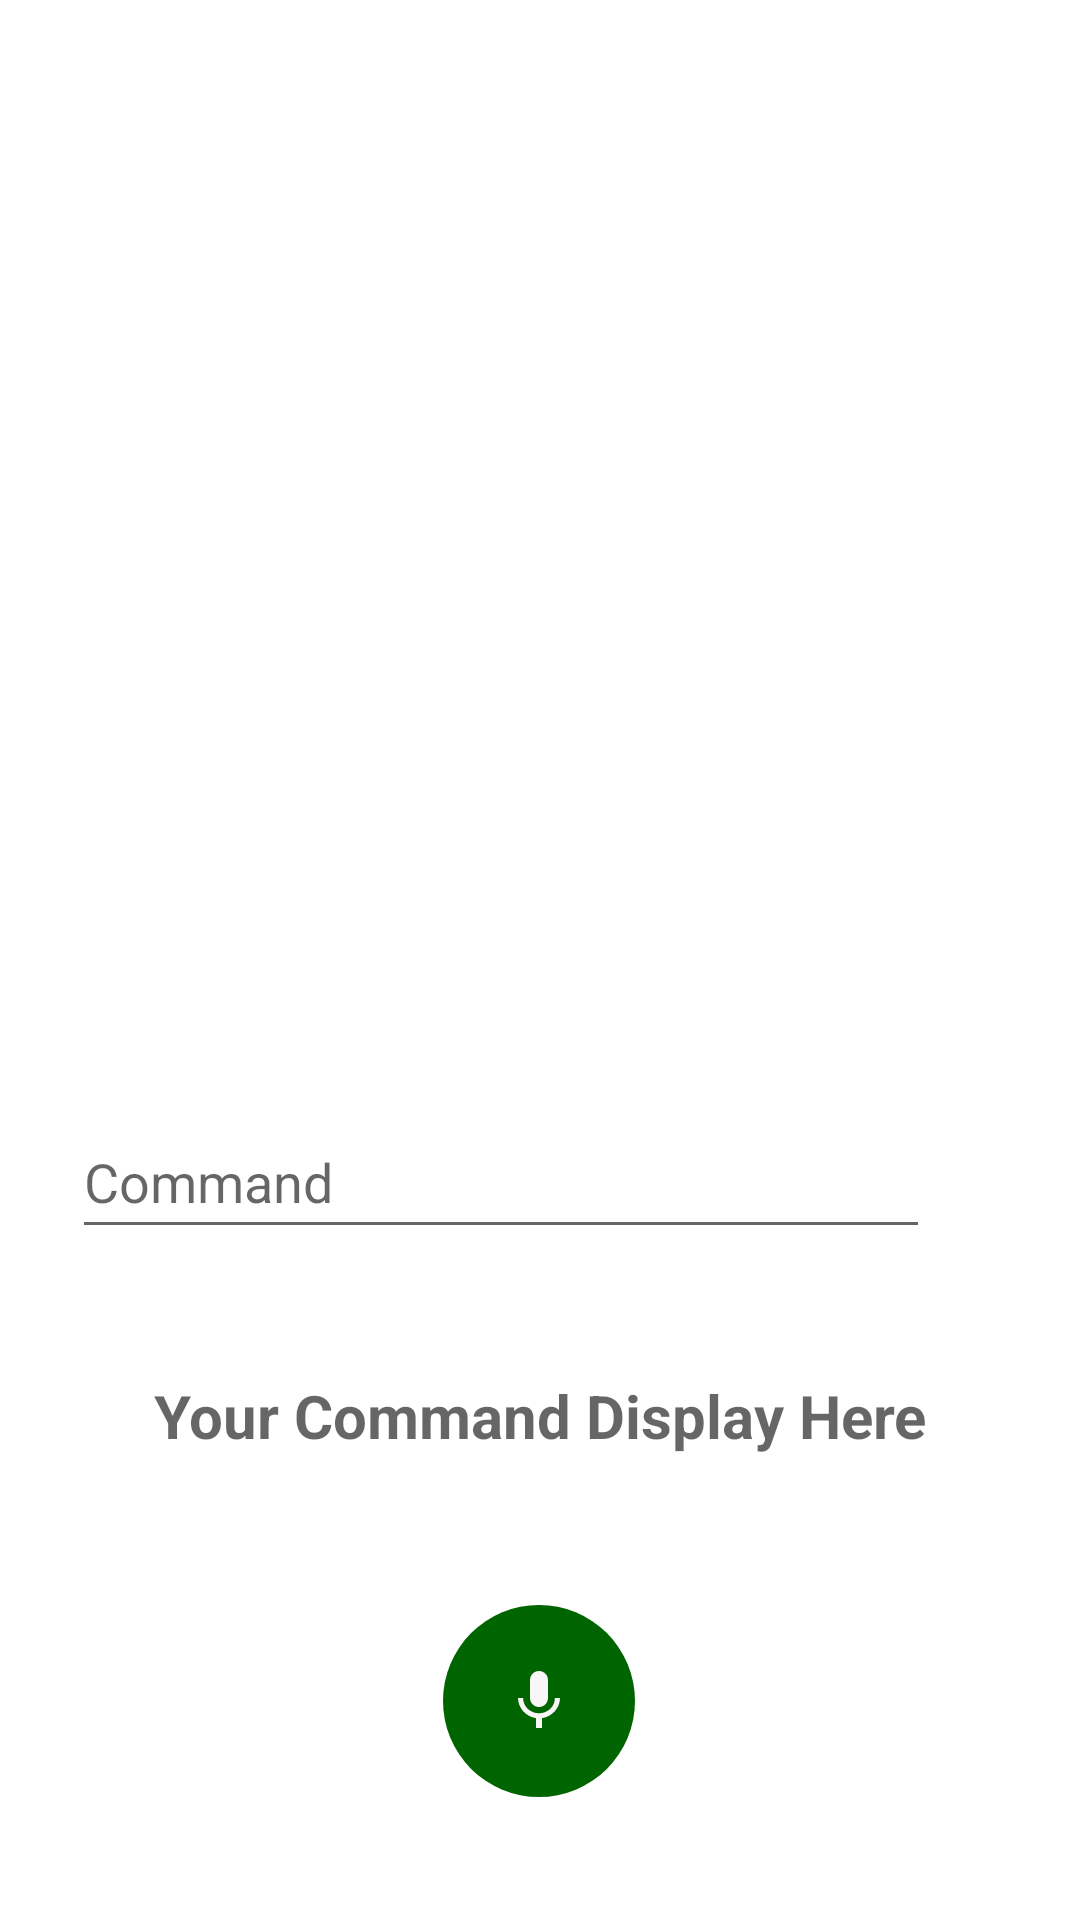

Locate icon controls on the screen. Image size 1080 x 1920, boxes as (x1, y1, x2, y2).
mic: (443, 1605, 635, 1797)
